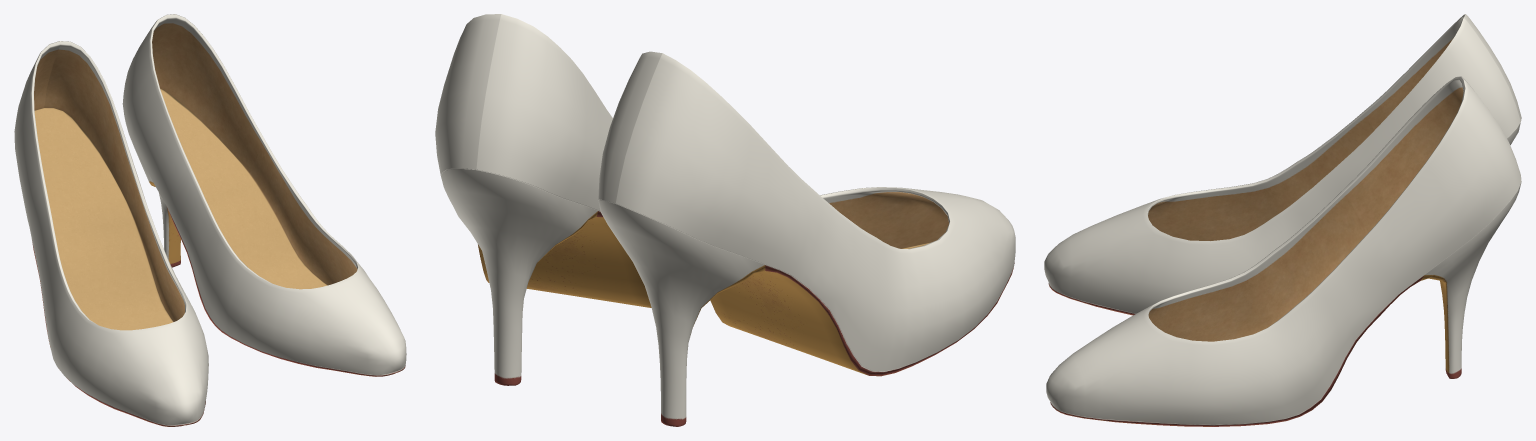
The model's file is high-heel-shoes.fbx.
3 views of the same model, side by side, from view 1: azimuth 30°, elevation 25°; view 2: azimuth 150°, elevation 25°; view 3: azimuth 270°, elevation 25° (orthographic). The views are drawn at different scales.
Parts seen in each view (by area): view 1: 3; view 2: 3; view 3: 3.
Part boxes in pixels (x1,y1,x2,y2): 3: [14, 14, 406, 426]; 3: [435, 14, 1015, 426]; 3: [1044, 14, 1521, 426].
Size of the model in its own units: 2178 by 1727 by 2537.
1 material, 1 textured.
